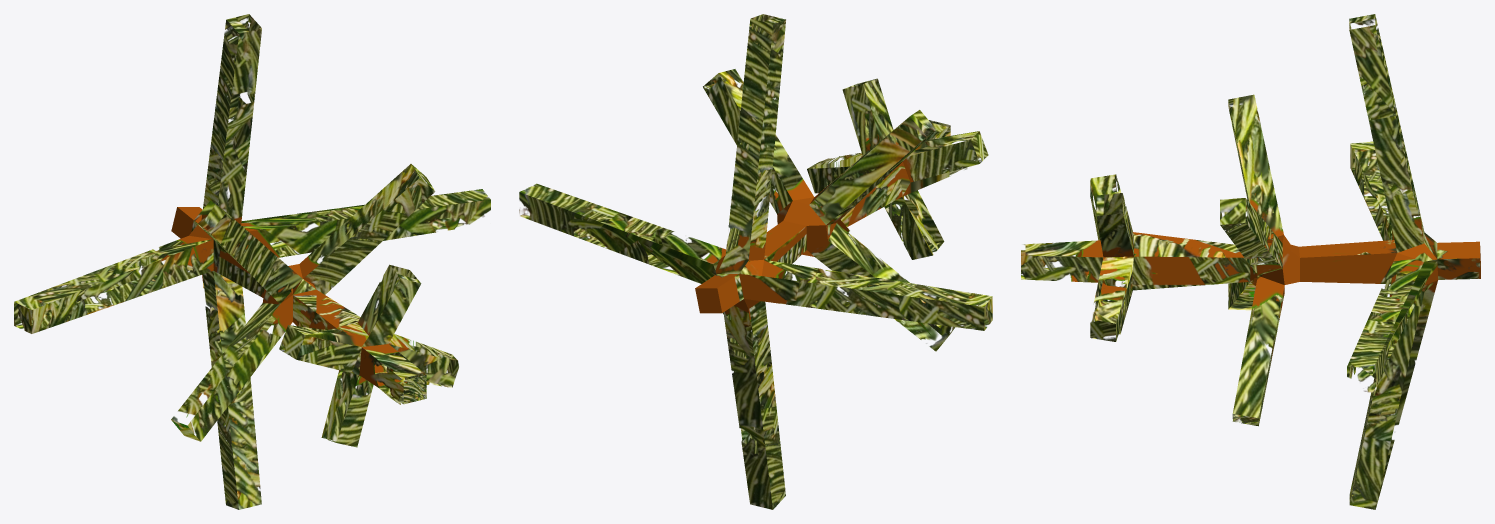
The model's file is tree-sampling-pine-5.glb.
3 renders of one model, left to right at view 1: azimuth 30°, elevation 25°; view 2: azimuth 150°, elevation 25°; view 3: azimuth 270°, elevation 25°, orthographic.
Visible parts, largest first — view 1: Cube.001; view 2: Cube.001; view 3: Cube.001.
Boxes of the visible parts, bbox=[...] form: Cube.001: bbox=[14, 14, 490, 509]; Cube.001: bbox=[519, 14, 992, 509]; Cube.001: bbox=[1021, 14, 1480, 509].
Size of the model in its own units: 0.5782 by 0.5749 by 0.4941.
Materials: 1 (1 with a texture image).
